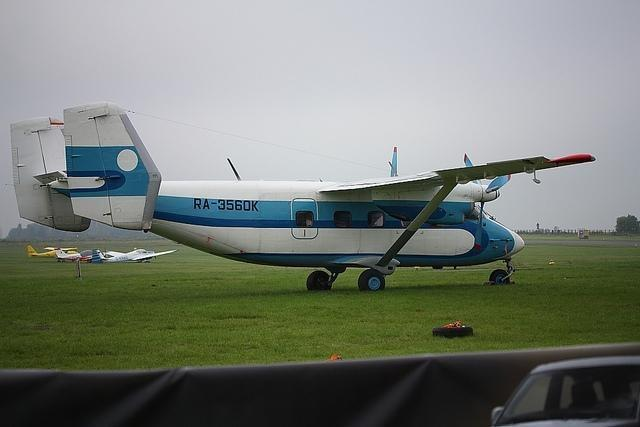car: (489, 355, 640, 427)
